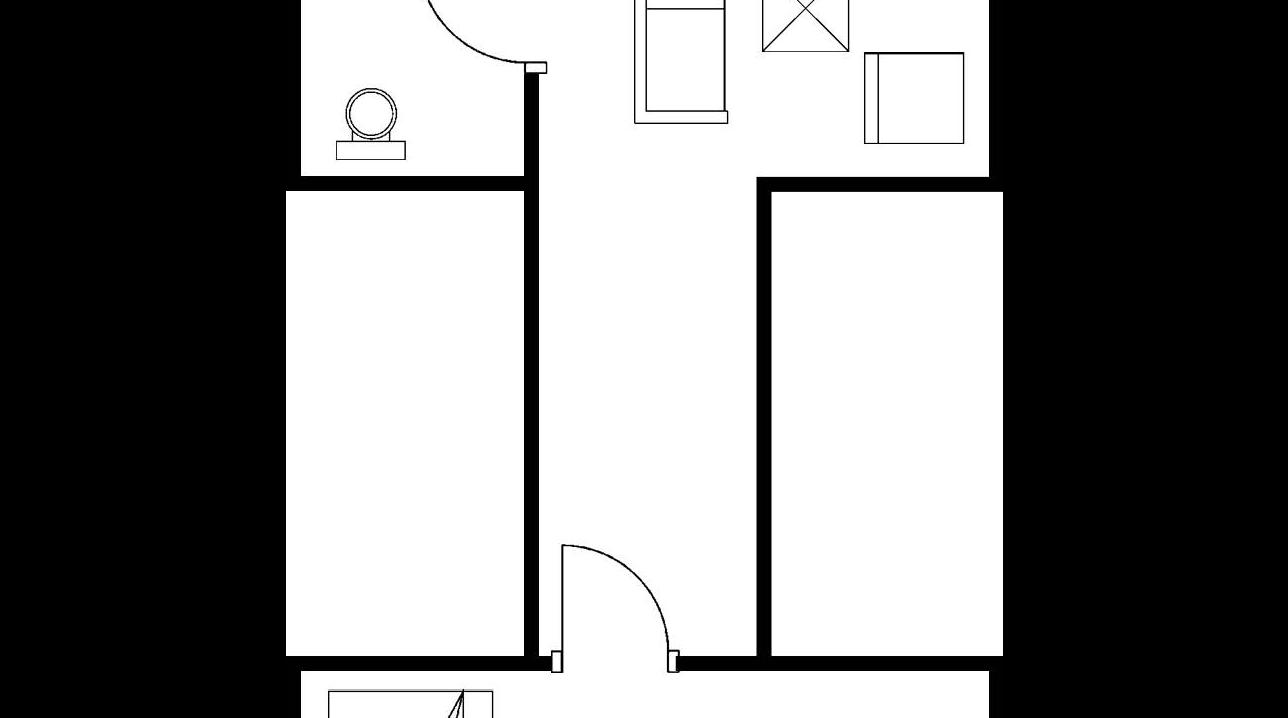bed: (321, 682, 502, 718)
sofa: (625, 0, 736, 130)
toilet: (329, 80, 412, 166)
